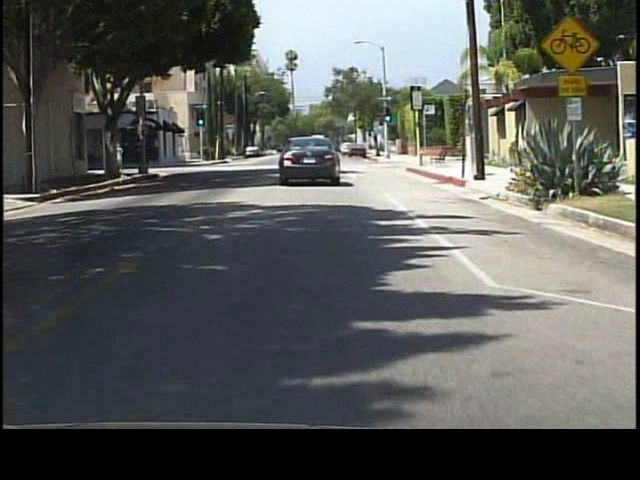person: (116, 138, 129, 173)
